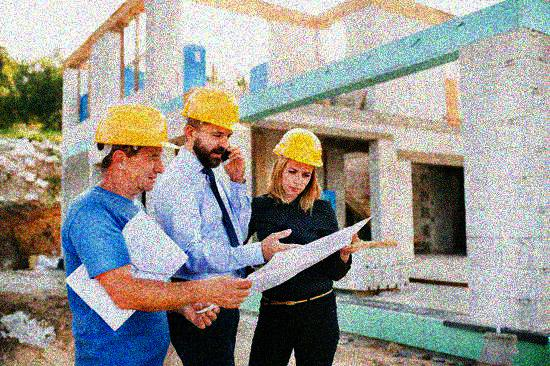helmet: (90, 103, 180, 194), (180, 83, 248, 168), (270, 127, 324, 200)
